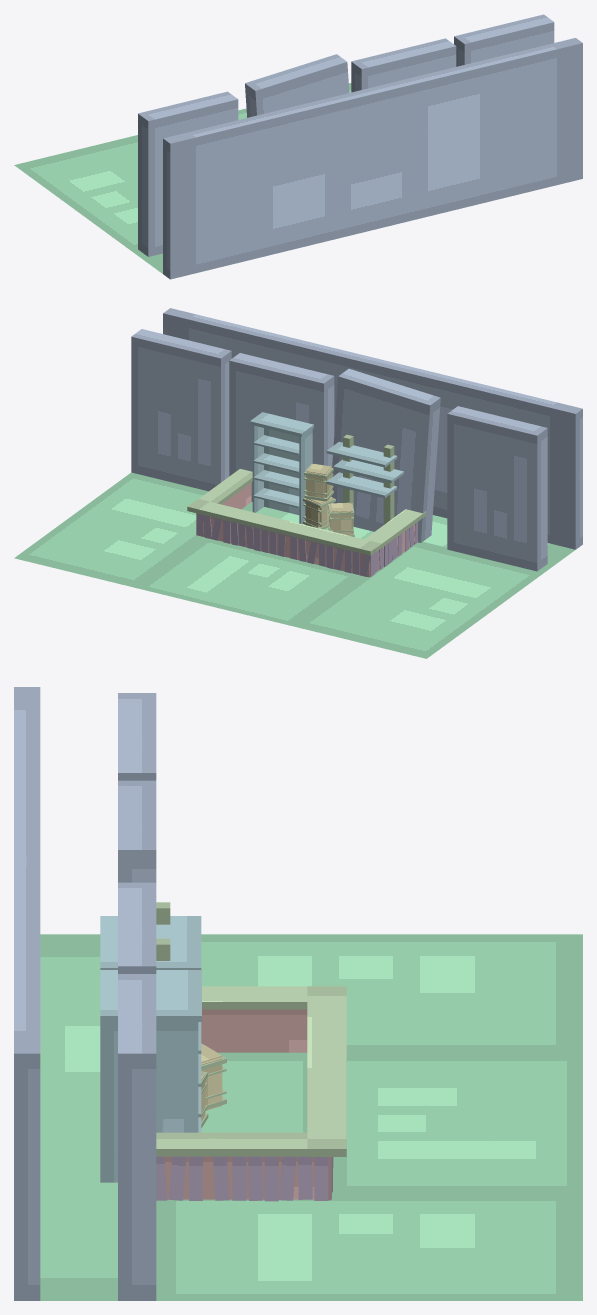
Rendered from isoArcherShopScene.gltf.
3 views of the same model, one above another, from view 1: azimuth 30°, elevation 25°; view 2: azimuth 150°, elevation 25°; view 3: azimuth 270°, elevation 25° (orthographic). The views are drawn at different scales.
Parts seen in each view (by area): view 1: adfe7052-109b-8f49-c5eb-4eb4be32e659, d5ea1ddb-1928-afd0-a519-a131ac0c16a9, 57ede22a-cbef-37da-6277-b5915d4cc988, 2bbb00d9-72e0-d1d3-1301-44135b08fcdb, ab4260c7-5f1a-952f-3d61-4a854417ed9a, ab2f5546-389d-5d71-1286-c11b106492a0; view 2: adfe7052-109b-8f49-c5eb-4eb4be32e659, d5ea1ddb-1928-afd0-a519-a131ac0c16a9, 57ede22a-cbef-37da-6277-b5915d4cc988, ab2f5546-389d-5d71-1286-c11b106492a0, 9c1d6c1a-1e06-fd0f-612a-af2ab98fdef8, 2bbb00d9-72e0-d1d3-1301-44135b08fcdb, d1f0a792-f2c8-f4b2-551e-90bab72314aa, ab4260c7-5f1a-952f-3d61-4a854417ed9a, afd83dbb-83db-61cb-cf4e-2c0e912e200c, 23200513-2514-7a70-b762-740461c9866b, 91866af4-826a-fb1e-0ccf-eed35922843a, 903fe540-ab5b-bbf5-0e5b-17fd42e1b031 (+14 smaller); view 3: 9c1d6c1a-1e06-fd0f-612a-af2ab98fdef8, d5ea1ddb-1928-afd0-a519-a131ac0c16a9, d1f0a792-f2c8-f4b2-551e-90bab72314aa, a49b34de-ce31-72e6-5739-38768e089c67, adfe7052-109b-8f49-c5eb-4eb4be32e659, ab2f5546-389d-5d71-1286-c11b106492a0, 1afcd69a-e7c0-3ad4-5fdf-d1263ec59008, 6c3326eb-e775-36bb-2cae-6ea6463e1f11, afd83dbb-83db-61cb-cf4e-2c0e912e200c, 3d632053-23af-b4a8-c28d-31140869faae, 2bbb00d9-72e0-d1d3-1301-44135b08fcdb, 5071f2d4-92c3-4103-18df-cd798bacd0a3 (+7 smaller).
Boxes of the visible parts, x1,y1,x2,y2 form: adfe7052-109b-8f49-c5eb-4eb4be32e659: (163,38,582,279); d5ea1ddb-1928-afd0-a519-a131ac0c16a9: (14,135,139,252); 57ede22a-cbef-37da-6277-b5915d4cc988: (138,91,238,256); 2bbb00d9-72e0-d1d3-1301-44135b08fcdb: (245,54,349,117); ab4260c7-5f1a-952f-3d61-4a854417ed9a: (351,38,456,92); ab2f5546-389d-5d71-1286-c11b106492a0: (454,14,554,66); adfe7052-109b-8f49-c5eb-4eb4be32e659: (163,308,582,549); d5ea1ddb-1928-afd0-a519-a131ac0c16a9: (294,542,545,658); 57ede22a-cbef-37da-6277-b5915d4cc988: (447,406,547,571); ab2f5546-389d-5d71-1286-c11b106492a0: (131,329,231,491); 9c1d6c1a-1e06-fd0f-612a-af2ab98fdef8: (14,472,208,587); 2bbb00d9-72e0-d1d3-1301-44135b08fcdb: (331,368,440,542); d1f0a792-f2c8-f4b2-551e-90bab72314aa: (134,537,361,626); ab4260c7-5f1a-952f-3d61-4a854417ed9a: (229,353,334,501); afd83dbb-83db-61cb-cf4e-2c0e912e200c: (187,499,381,555); 23200513-2514-7a70-b762-740461c9866b: (264,428,299,515); 91866af4-826a-fb1e-0ccf-eed35922843a: (196,513,370,577); 903fe540-ab5b-bbf5-0e5b-17fd42e1b031: (364,509,426,553); 9c1d6c1a-1e06-fd0f-612a-af2ab98fdef8: (156,1194,582,1300); d5ea1ddb-1928-afd0-a519-a131ac0c16a9: (201,934,582,1052); d1f0a792-f2c8-f4b2-551e-90bab72314aa: (332,1052,582,1194); a49b34de-ce31-72e6-5739-38768e089c67: (40,934,117,1300); adfe7052-109b-8f49-c5eb-4eb4be32e659: (14,687,40,1300); ab2f5546-389d-5d71-1286-c11b106492a0: (118,974,156,1300); 1afcd69a-e7c0-3ad4-5fdf-d1263ec59008: (201,1052,307,1132); 6c3326eb-e775-36bb-2cae-6ea6463e1f11: (100,1022,198,1182); afd83dbb-83db-61cb-cf4e-2c0e912e200c: (307,986,346,1156); 3d632053-23af-b4a8-c28d-31140869faae: (201,1009,307,1052); 2bbb00d9-72e0-d1d3-1301-44135b08fcdb: (118,780,156,882); 5071f2d4-92c3-4103-18df-cd798bacd0a3: (156,1132,307,1156).
Size of the model in its own units: 62 by 24.41 by 40.67.
7 materials, 7 textured.
